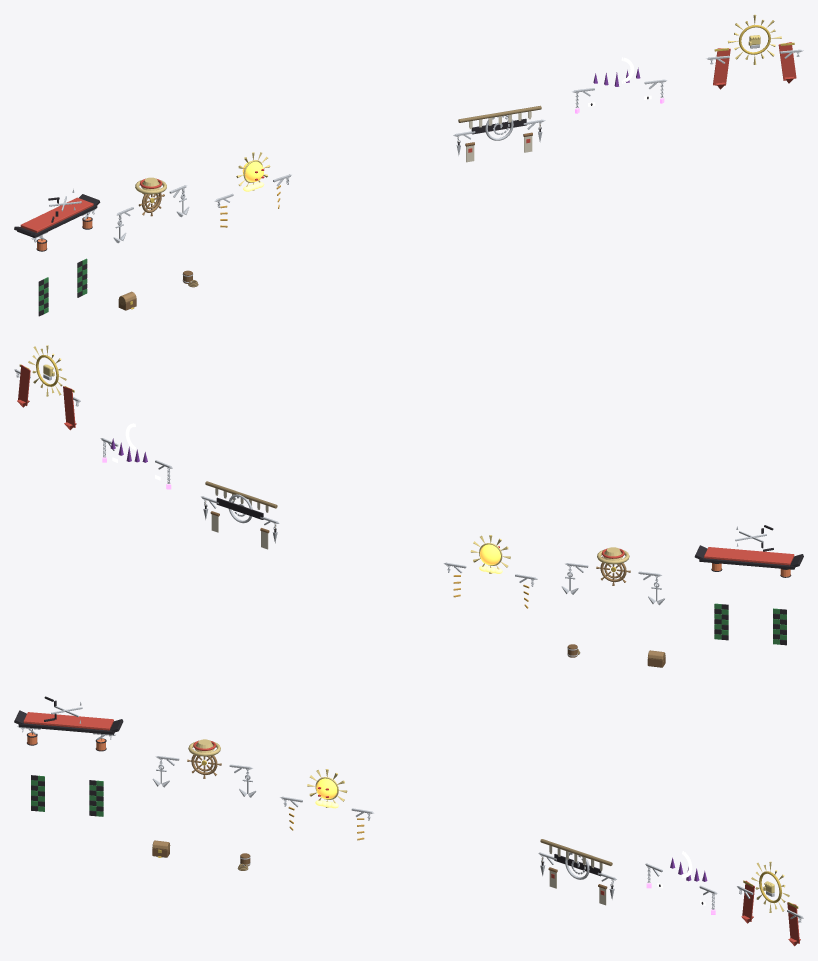
The model's file is 15_Brasoes.fbx.
3 views of the same model, one above another, from view 1: azimuth 30°, elevation 25°; view 2: azimuth 150°, elevation 25°; view 3: azimuth 330°, elevation 25° (orthographic).
Visible parts, largest first — view 1: Br_FOREST_Tel2; view 2: Br_FOREST_Tel2; view 3: Br_FOREST_Tel2.
Part boxes in pixels (left/top/right/bottom): Br_FOREST_Tel2: left=20, top=197, right=93, bottom=232; Br_FOREST_Tel2: left=704, top=547, right=794, bottom=565; Br_FOREST_Tel2: left=23, top=712, right=113, bottom=730.
Bounding box in the file's own units: 18813 × 3559 × 2002.
